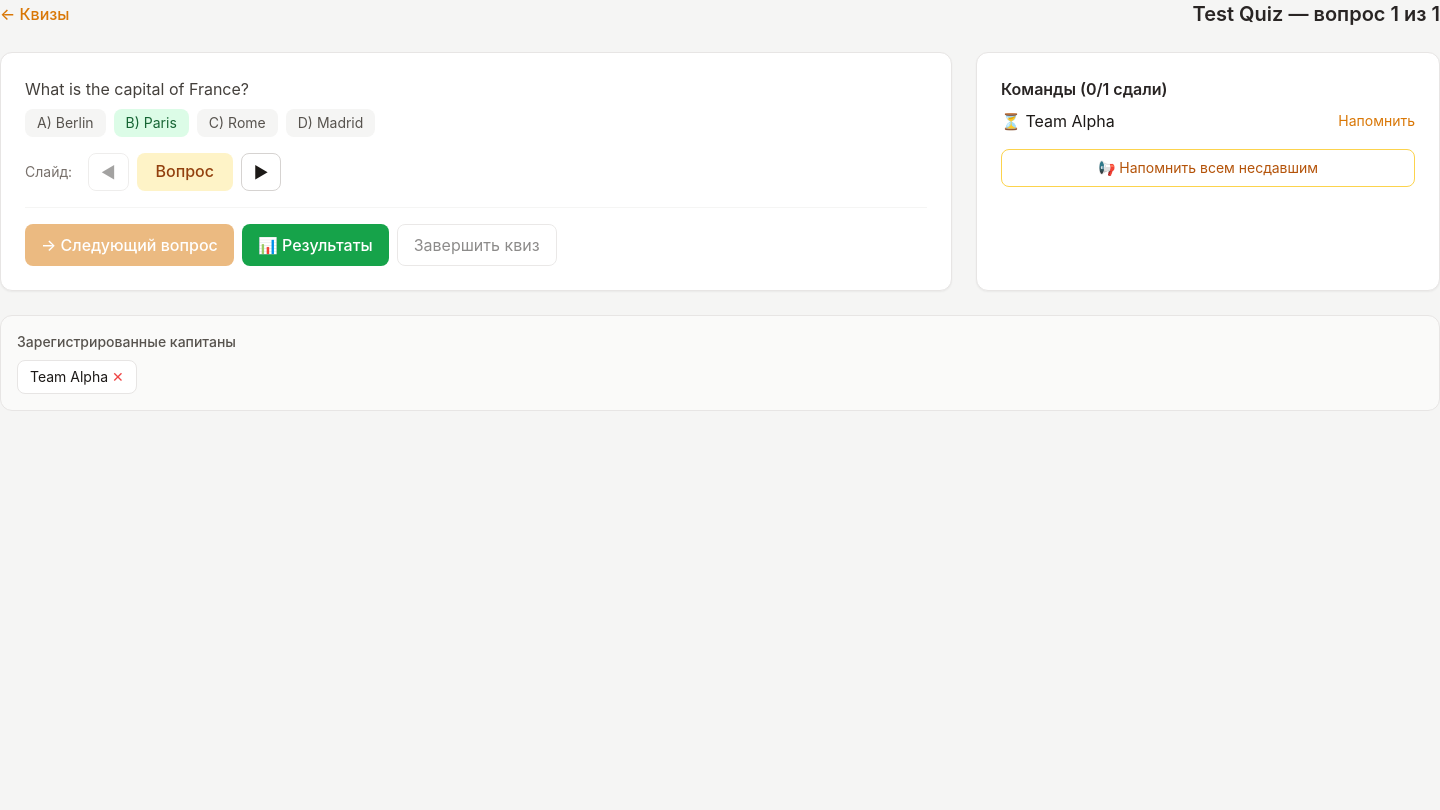
Test: Game.jsx — playing: team details via results modal (with items + hasHidden) › renders detail items in playing-state team details modal
expect the text "What is the capital of France?" is shown: met, box [25, 77, 249, 101]
// Open results modal → Подробнее
What coordinates should you click on to do the following:
click the button "📊 Результаты"
I would click on:
 (315, 245)
Its box is [242, 224, 389, 266].
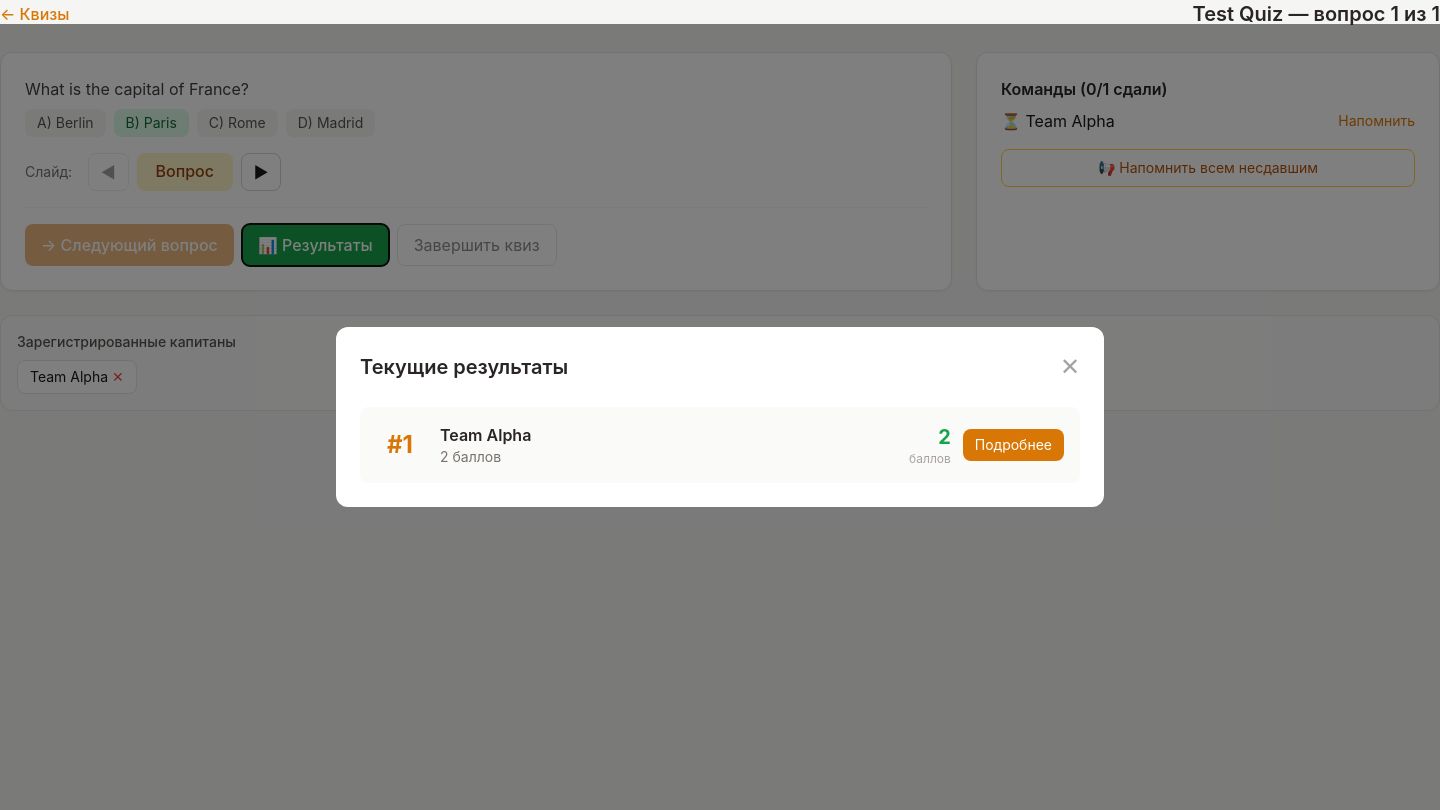
expect the heading "Текущие результаты" is shown: met, box [360, 353, 568, 381]
What coordinates should you click on to do the following:
click the button "Подробнее"
I would click on:
 (1013, 445)
Its box is [963, 429, 1064, 461].
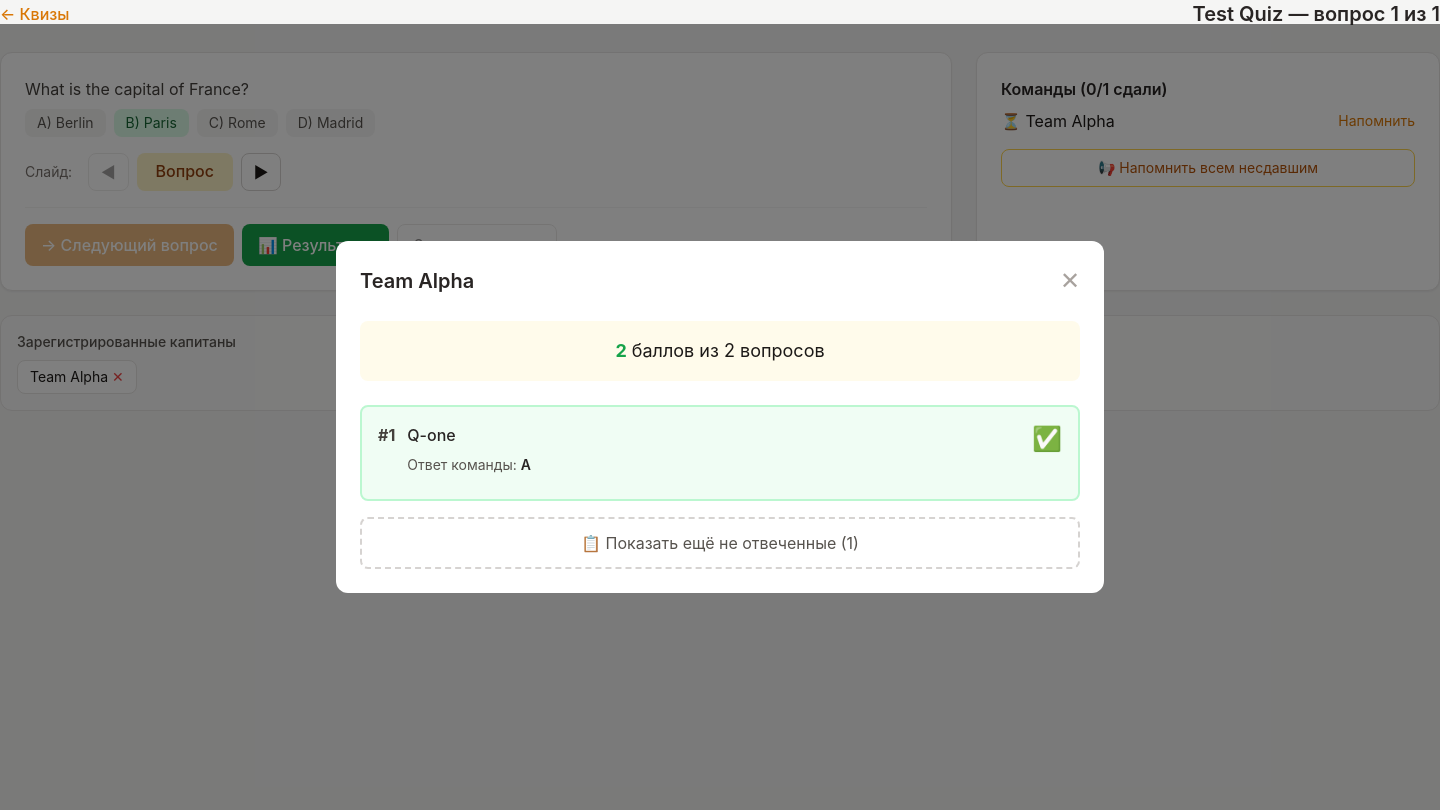
expect the text "2 баллов из 2 вопросов" is shown: met, box [615, 340, 825, 361]
expect the text "Q-one" is shown: met, box [407, 425, 456, 445]
